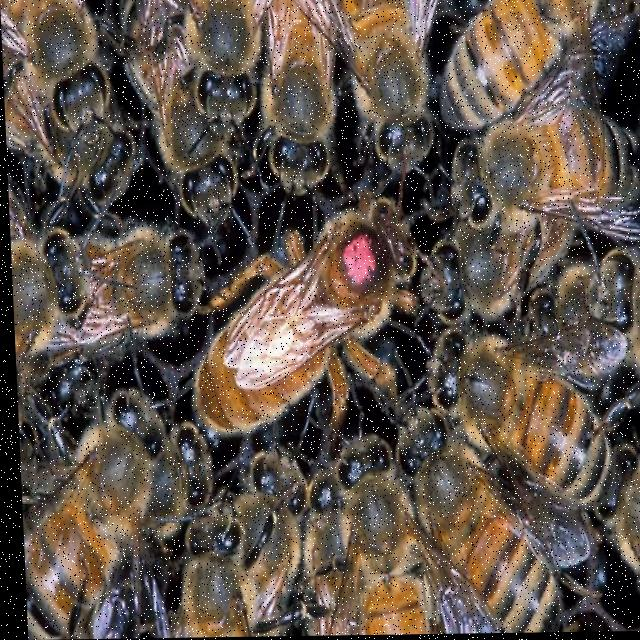Apis-mellifera-scutellata: (166, 175, 430, 473), (426, 305, 640, 586), (389, 368, 556, 636), (24, 384, 179, 640), (109, 0, 260, 241), (6, 178, 167, 390), (321, 407, 447, 632), (435, 0, 631, 131), (445, 138, 640, 266), (8, 0, 148, 158), (331, 0, 435, 183), (170, 0, 271, 172), (151, 388, 220, 638), (257, 0, 339, 197), (191, 418, 262, 638), (245, 410, 312, 637), (292, 430, 364, 634)
